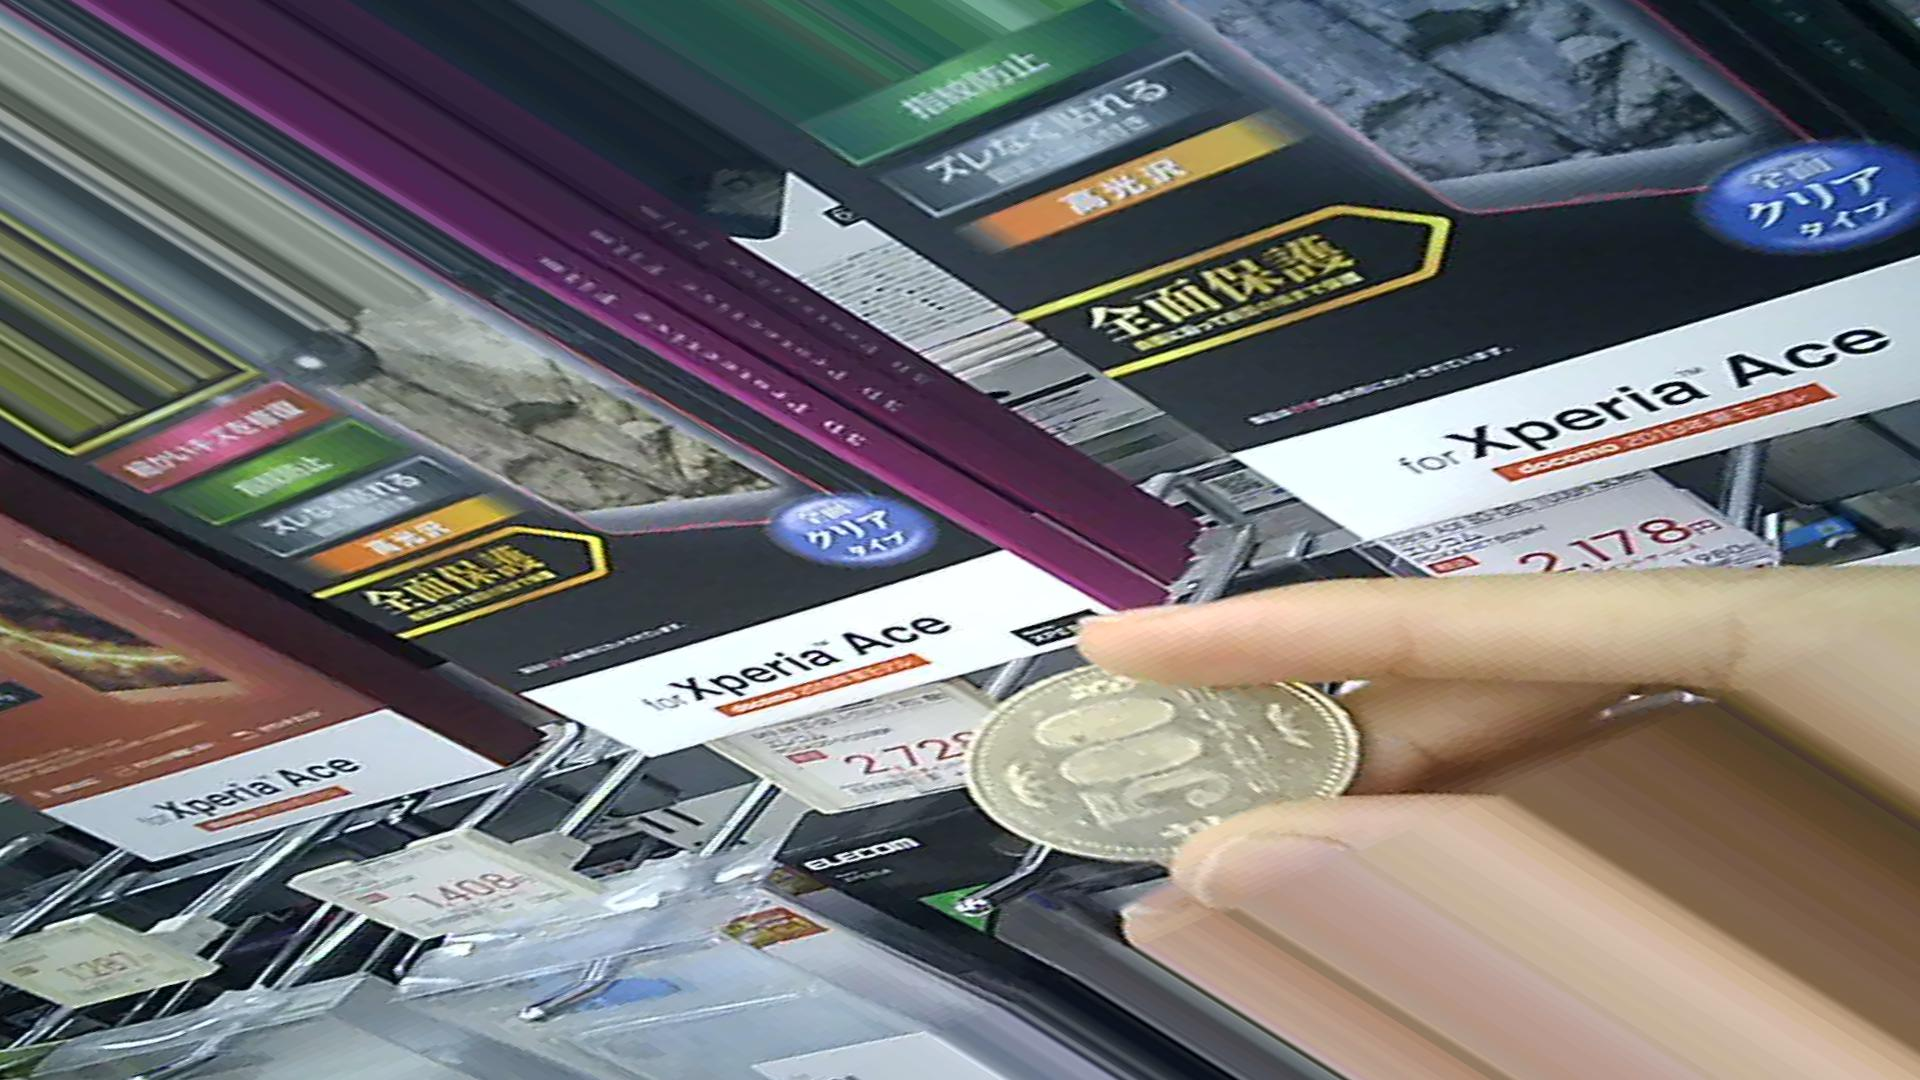500 Yen: (952, 659, 1364, 860)
